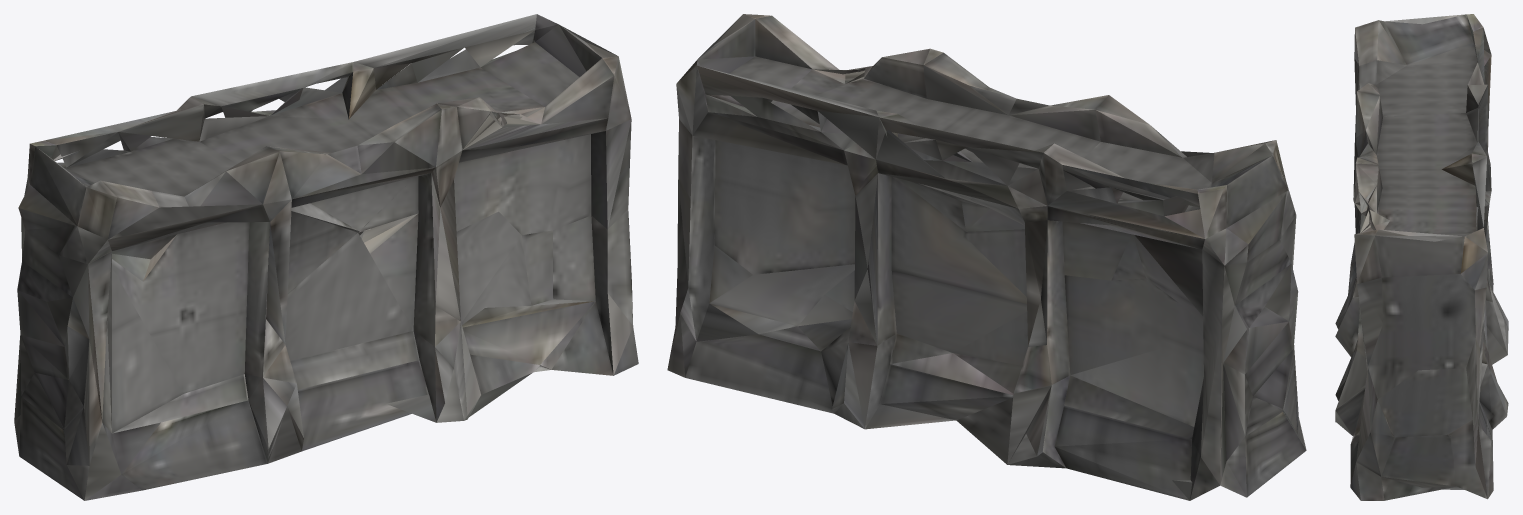
File: imperial_city_wall_straight_damaged_lod2.glb
3 views of the same model, side by side, from view 1: azimuth 30°, elevation 25°; view 2: azimuth 150°, elevation 25°; view 3: azimuth 270°, elevation 25° (orthographic). The views are drawn at different scales.
Parts seen in each view (by area): view 1: mesh_node; view 2: mesh_node; view 3: mesh_node.
Part boxes in pixels (x1=…): mesh_node: x1=14, y1=14, x2=638, y2=500; mesh_node: x1=667, y1=14, x2=1306, y2=500; mesh_node: x1=1335, y1=14, x2=1508, y2=500.
Bounding box in the file's own units: 11.9 × 6.16 × 3.71.
1 material, 1 textured.
